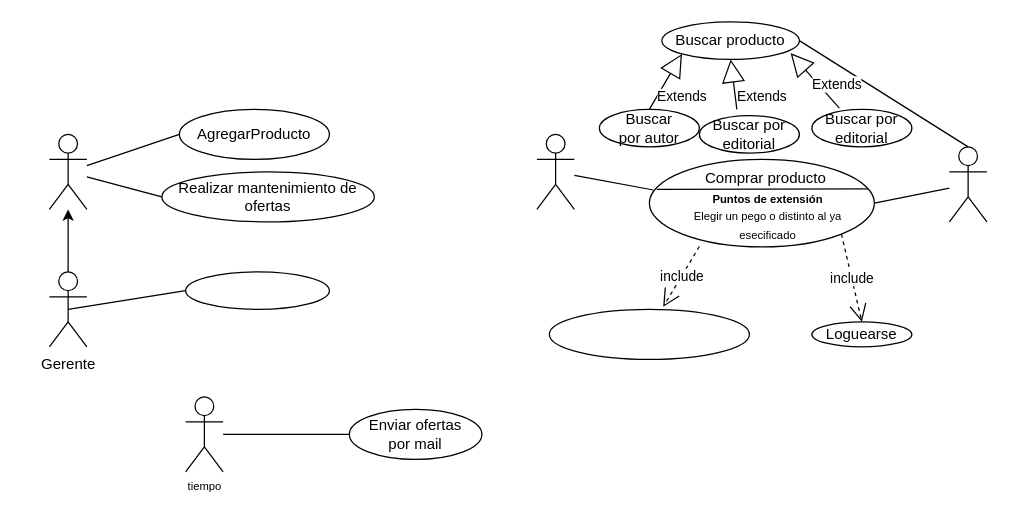
Some shapes in this 1011 by 516 pixel diagram are drawn without their labels. The centre of each missing label's shape, as x and y in pixels:
"Administrador" belongs at (67,171).
"cliente" belongs at (967,184).
"pagar con tipo de pago diferente" belongs at (648,333).
"Realizar informe" belongs at (256,290).
"sistema financiero" belongs at (555,171).
